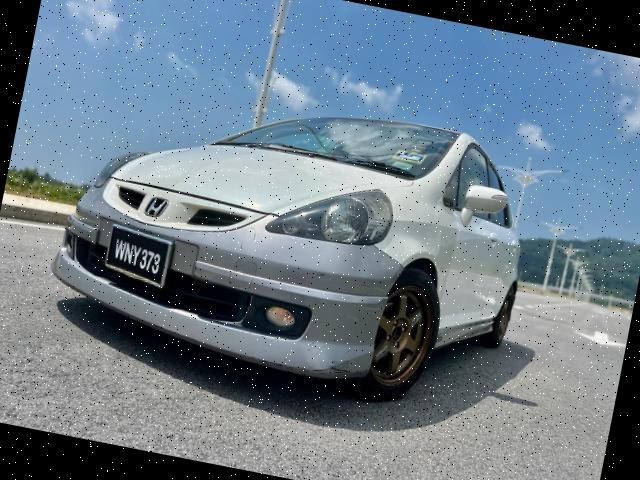License_Plate: (102, 224, 173, 287)
car: (32, 50, 555, 430)
